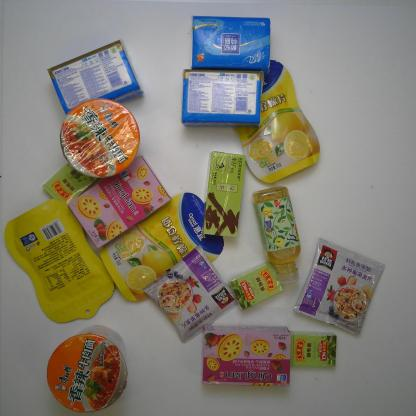Candy: (228, 260, 285, 312), (41, 162, 98, 204), (290, 330, 338, 368)
Dessert: (66, 154, 172, 249), (199, 324, 291, 388)
Dried Fruit: (3, 198, 115, 324), (99, 192, 224, 302), (232, 59, 321, 184)
Drink: (251, 185, 302, 285)
Instant Drink: (141, 244, 239, 344), (292, 237, 386, 336), (202, 150, 247, 238)
Instant Noodles: (45, 324, 129, 413), (59, 97, 141, 180)
Tissue: (46, 39, 144, 115), (190, 14, 272, 75), (180, 69, 264, 128)
